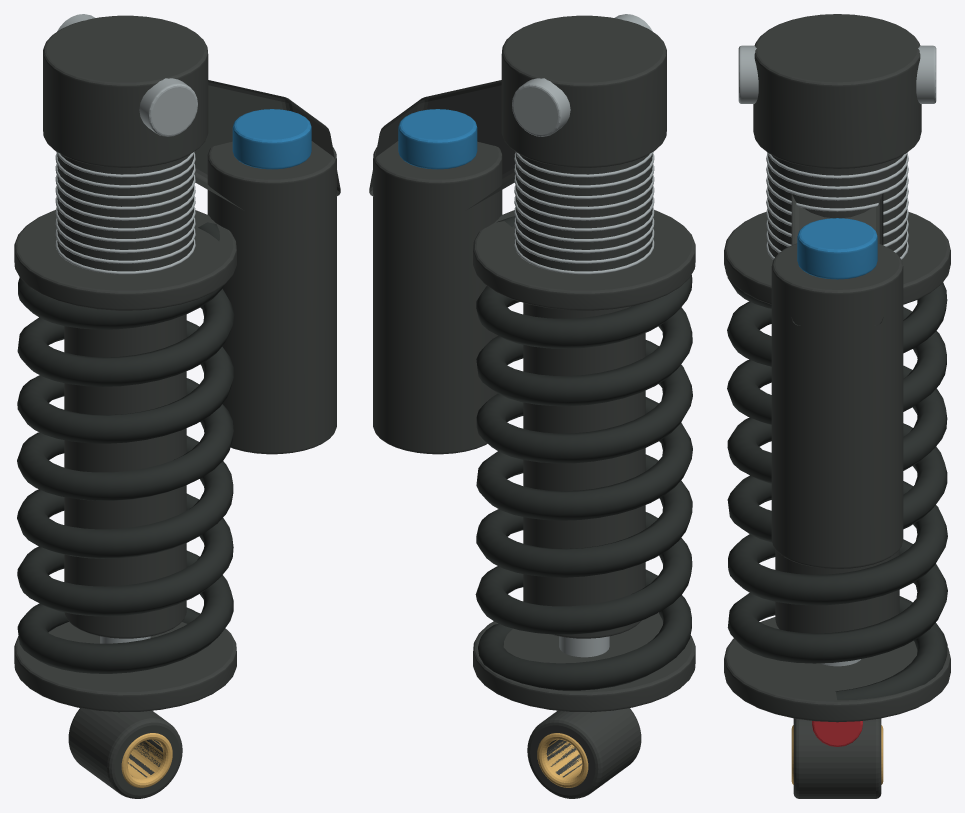
File: marzocchi-bomber-cr--620ba16a.glb
3 renders of one model, left to right at view 1: azimuth 30°, elevation 25°; view 2: azimuth 150°, elevation 25°; view 3: azimuth 270°, elevation 25°, orthographic.
Parts seen in each view (by area): view 1: marzocchi-bomber-cr--620ba16a__link, marzocchi-bomber-cr--620ba16a__coil, marzocchi-bomber-cr--620ba16a__bolts, marzocchi-bomber-cr--620ba16a__adjuster, marzocchi-bomber-cr--620ba16a__stanchions; view 2: marzocchi-bomber-cr--620ba16a__link, marzocchi-bomber-cr--620ba16a__coil, marzocchi-bomber-cr--620ba16a__bolts, marzocchi-bomber-cr--620ba16a__adjuster, marzocchi-bomber-cr--620ba16a__stanchions; view 3: marzocchi-bomber-cr--620ba16a__link, marzocchi-bomber-cr--620ba16a__coil, marzocchi-bomber-cr--620ba16a__bolts, marzocchi-bomber-cr--620ba16a__adjuster, marzocchi-bomber-cr--620ba16a__rebound.
Part boxes in pixels (x1,y1,x2,y2): marzocchi-bomber-cr--620ba16a__link: (14,15,340,798); marzocchi-bomber-cr--620ba16a__coil: (17,222,234,673); marzocchi-bomber-cr--620ba16a__bolts: (55,14,197,643); marzocchi-bomber-cr--620ba16a__adjuster: (232,109,311,169); marzocchi-bomber-cr--620ba16a__stanchions: (121,733,172,787); marzocchi-bomber-cr--620ba16a__link: (369,15,695,798); marzocchi-bomber-cr--620ba16a__coil: (475,216,692,690); marzocchi-bomber-cr--620ba16a__bolts: (512,14,654,657); marzocchi-bomber-cr--620ba16a__adjuster: (398,109,477,169); marzocchi-bomber-cr--620ba16a__stanchions: (537,733,588,787); marzocchi-bomber-cr--620ba16a__link: (724,14,950,798); marzocchi-bomber-cr--620ba16a__coil: (727,277,947,700); marzocchi-bomber-cr--620ba16a__bolts: (738,45,936,666); marzocchi-bomber-cr--620ba16a__adjuster: (797,218,877,279); marzocchi-bomber-cr--620ba16a__rebound: (812,721,862,746).
Bounding box in the file's own units: 0.096 × 0.225 × 0.062.
